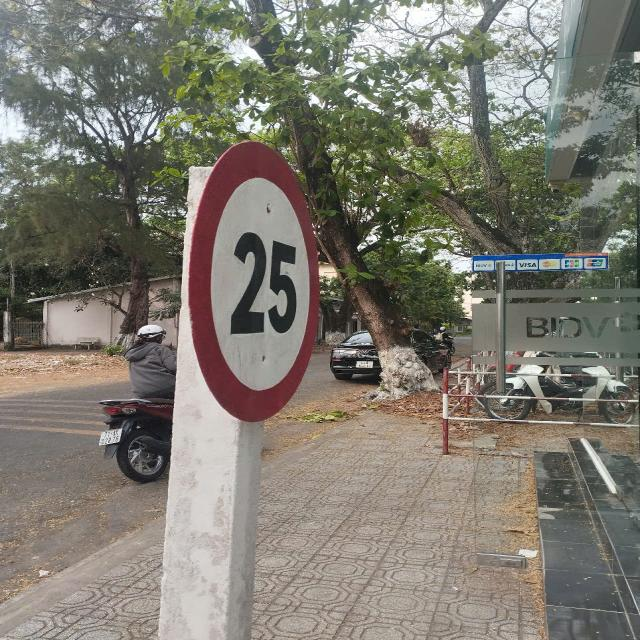Tre_Em: (183, 139, 324, 426)
